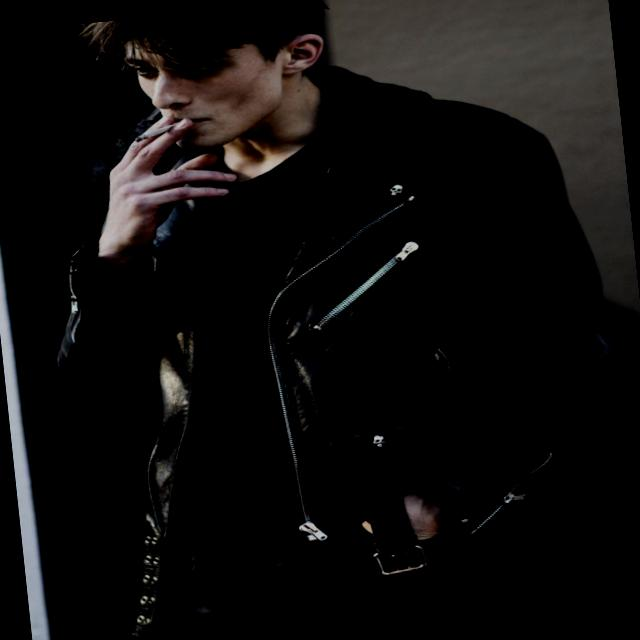cigarette: (122, 115, 212, 154)
